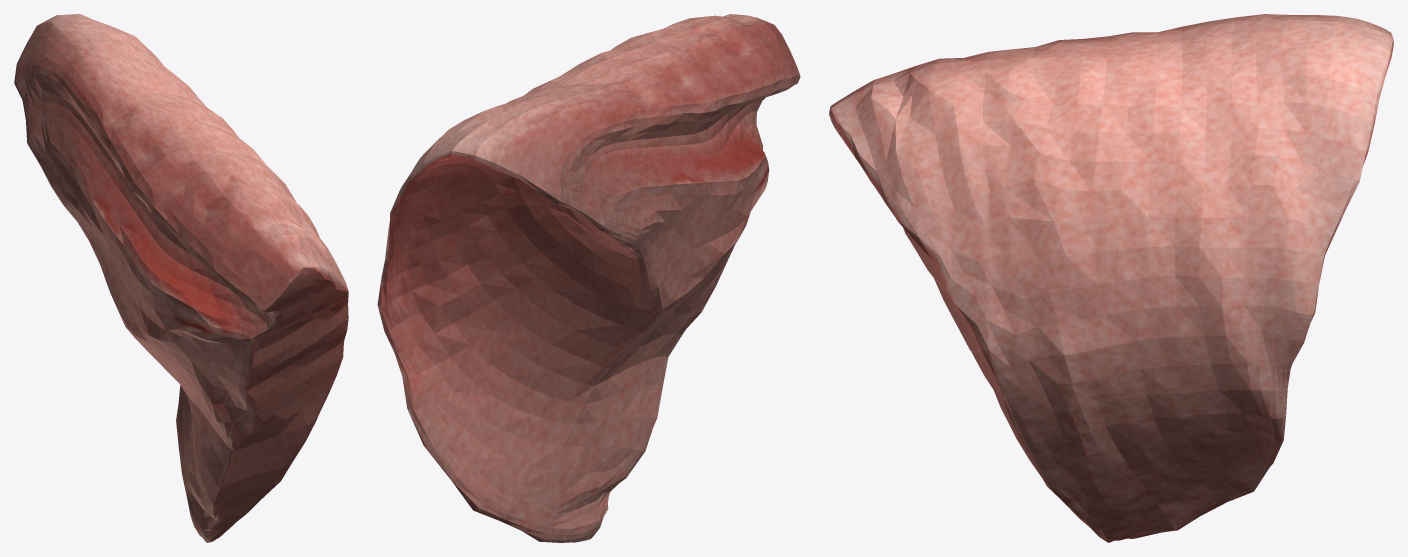
Rendered from L_lung_caudal_lung_lobe_LOW.glb.
3 views of the same model, side by side, from view 1: azimuth 30°, elevation 25°; view 2: azimuth 150°, elevation 25°; view 3: azimuth 270°, elevation 25° (orthographic). The views are drawn at different scales.
Parts seen in each view (by area): view 1: L_lung_caudal_lung_lobe_LOW; view 2: L_lung_caudal_lung_lobe_LOW; view 3: L_lung_caudal_lung_lobe_LOW.
Boxes of the visible parts, x1,y1,x2,y2 form: L_lung_caudal_lung_lobe_LOW: (14,14,348,542); L_lung_caudal_lung_lobe_LOW: (377,14,800,542); L_lung_caudal_lung_lobe_LOW: (829,14,1393,542).
Size of the model in its own units: 0.00201 by 0.00435 by 0.00443.
1 material, 1 textured.
